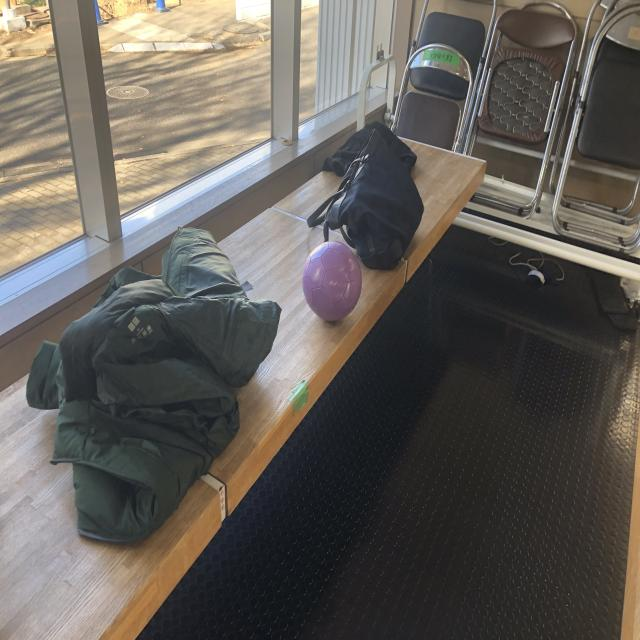purple_ball: (300, 242, 364, 321)
